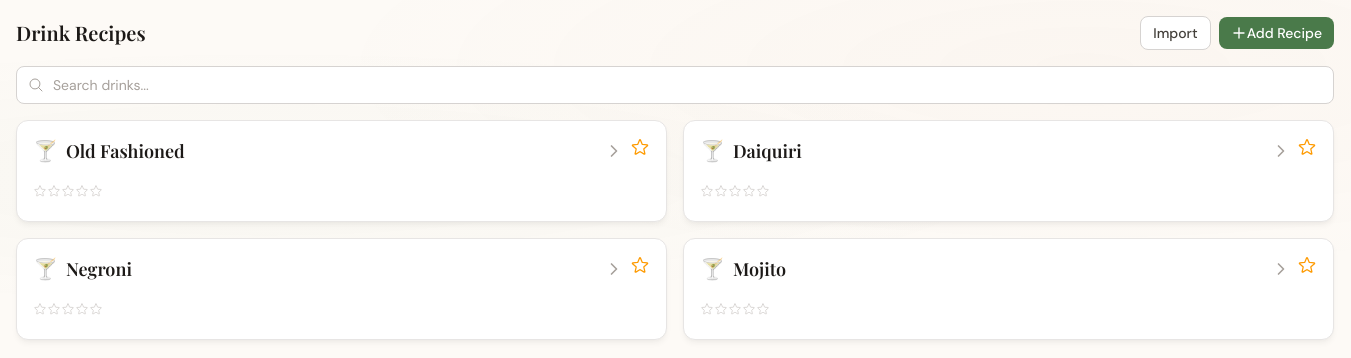
Scenario: DrinkRecipeManager › search input filters the visible recipes without hitting the network
Check: the heading "Old Fashioned" is shown, box [66,139,185,163]
Step 1. Type "negr" into the field with placeholder "Search drinks..." → (675, 85), box [16,66,1334,104]
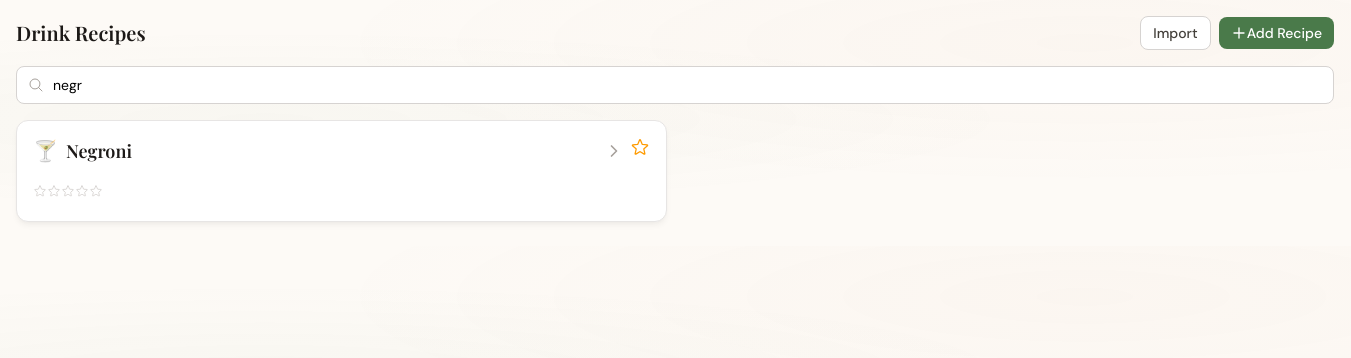
Check: the heading "Negroni" is shown, box [66,139,132,163]
Check: the link "Daiquiri" is gone
Check: the link "Mojito" is gone
